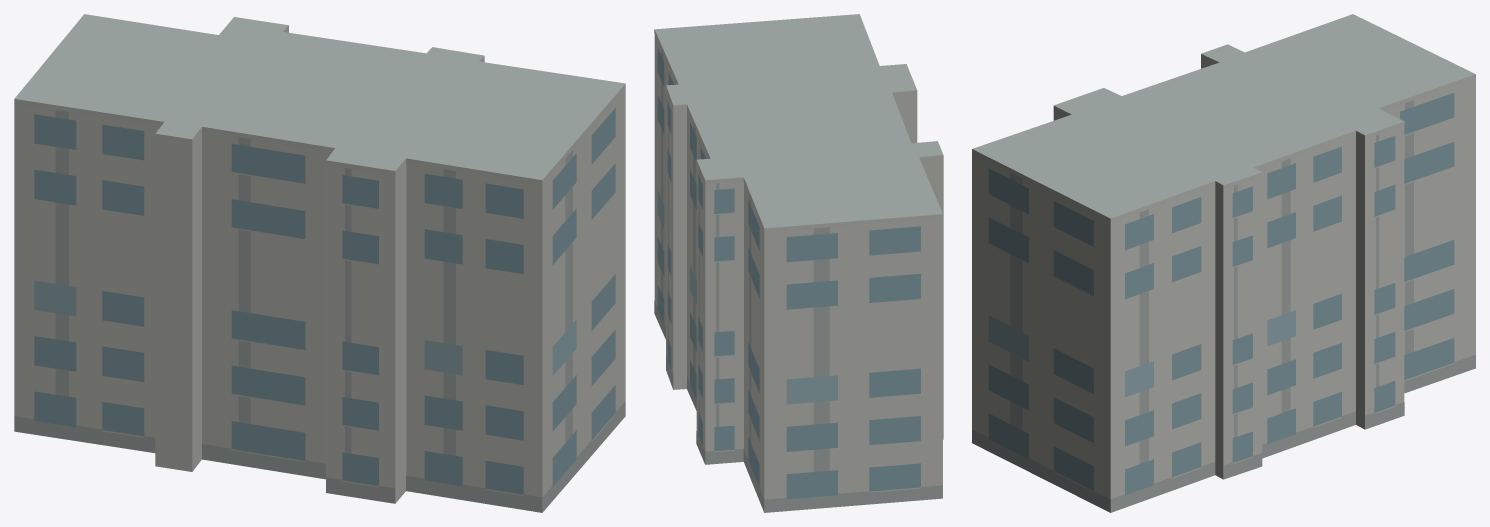
File: survey-upis-32835242.glb
3 renders of one model, left to right at view 1: azimuth 30°, elevation 25°; view 2: azimuth 150°, elevation 25°; view 3: azimuth 270°, elevation 25°, orthographic. The views are drawn at different scales.
Parts seen in each view (by area): view 1: survey-upis-32835242.tmp; view 2: survey-upis-32835242.tmp; view 3: survey-upis-32835242.tmp.
Boxes of the visible parts, x1,y1,x2,y2 form: survey-upis-32835242.tmp: [14, 14, 625, 512]; survey-upis-32835242.tmp: [654, 14, 943, 512]; survey-upis-32835242.tmp: [972, 14, 1475, 512].
Size of the model in its own units: 25.22 by 16.9 by 26.23.
